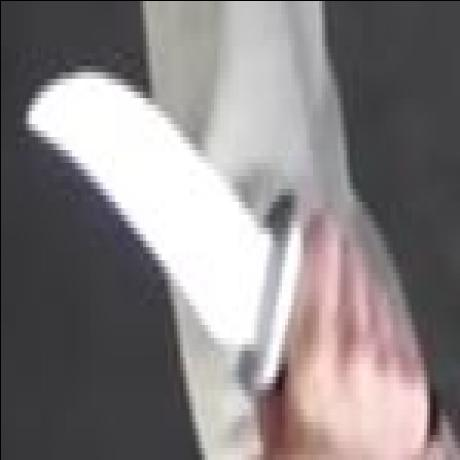1: (260, 207, 436, 460)
weapon: (24, 66, 292, 388)
